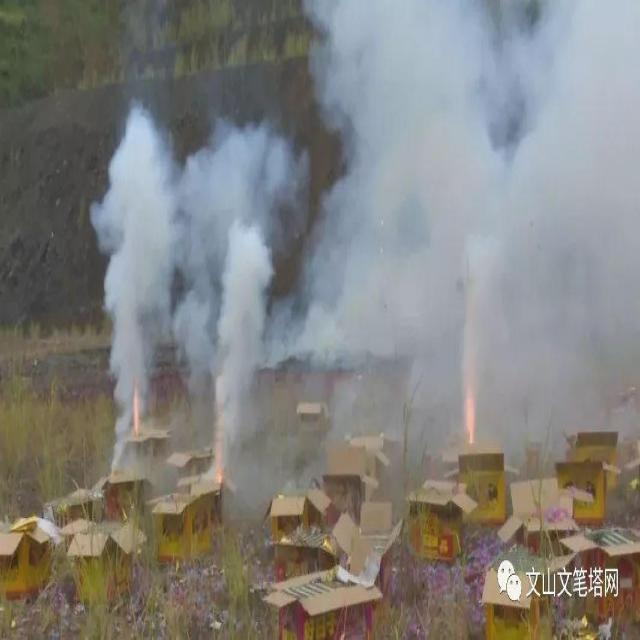Smoke: (89, 1, 640, 516)
